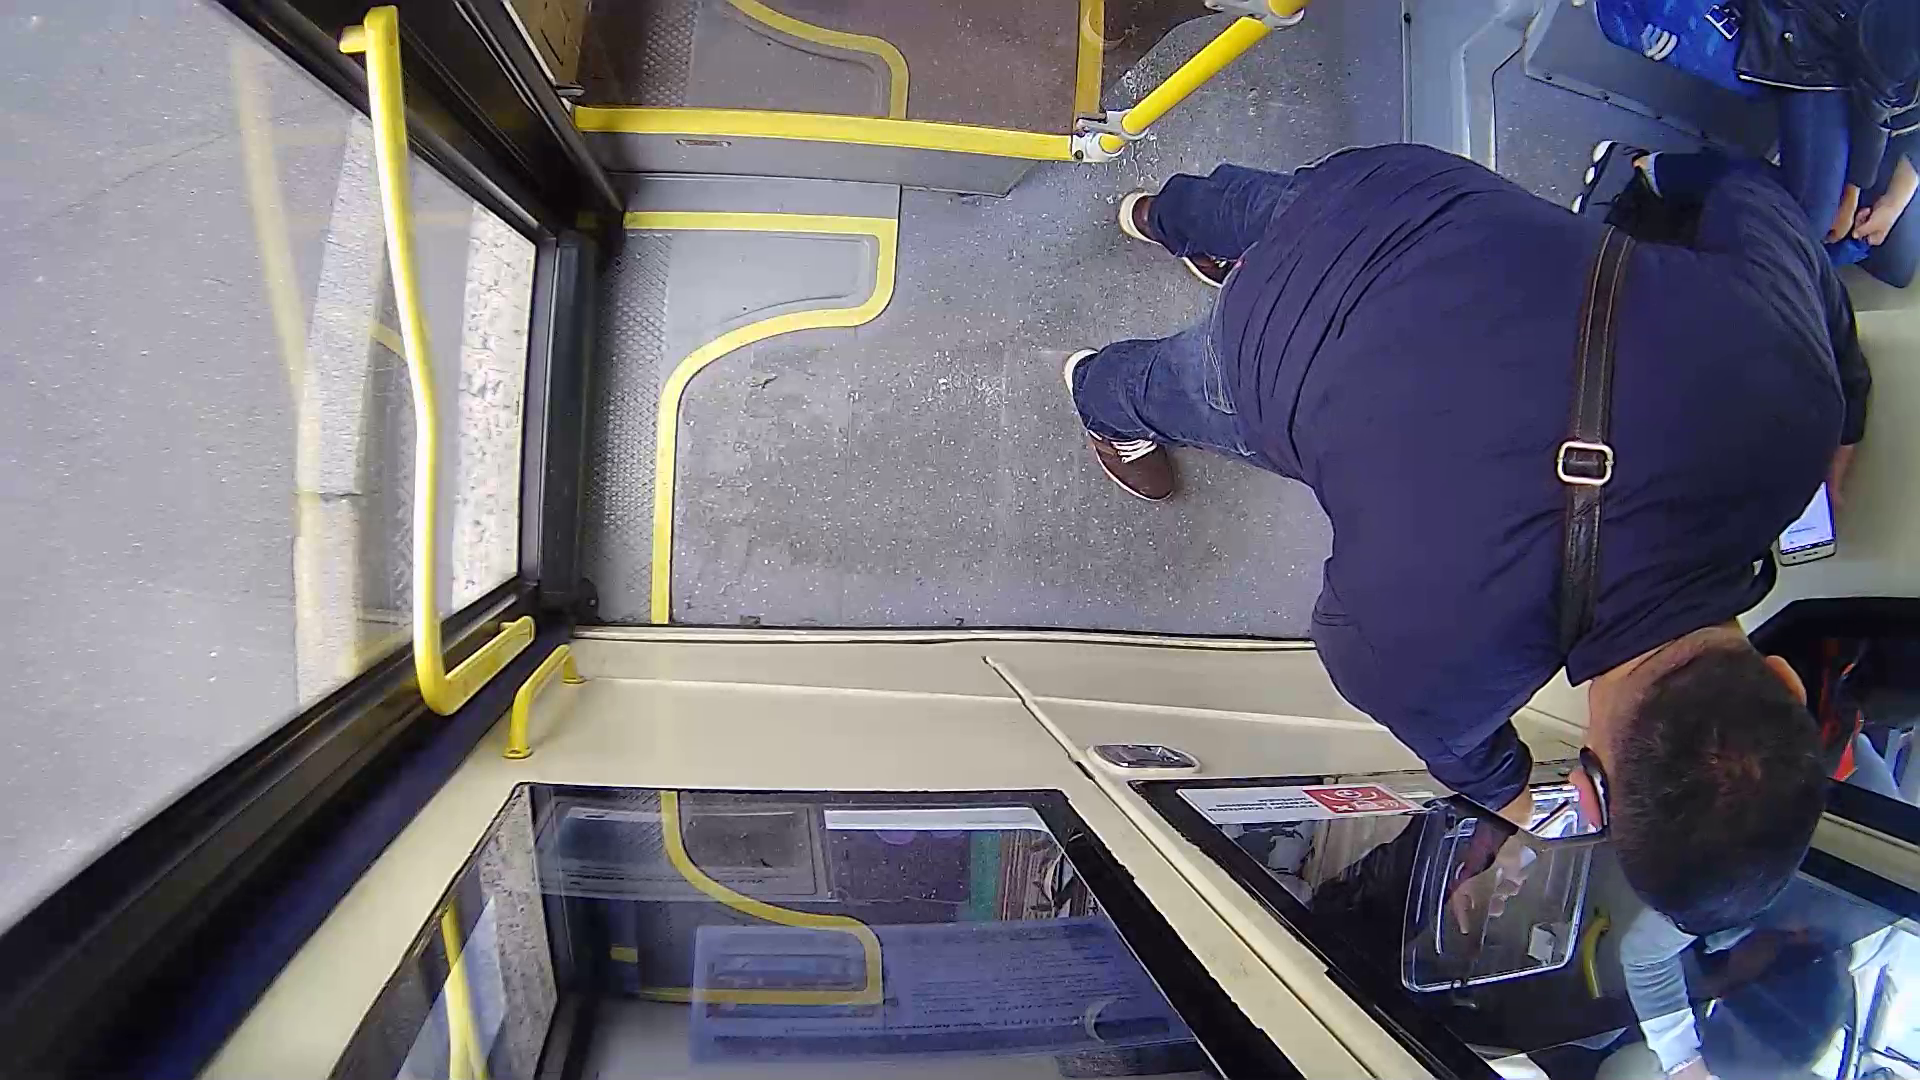person: (1061, 146, 1886, 855)
